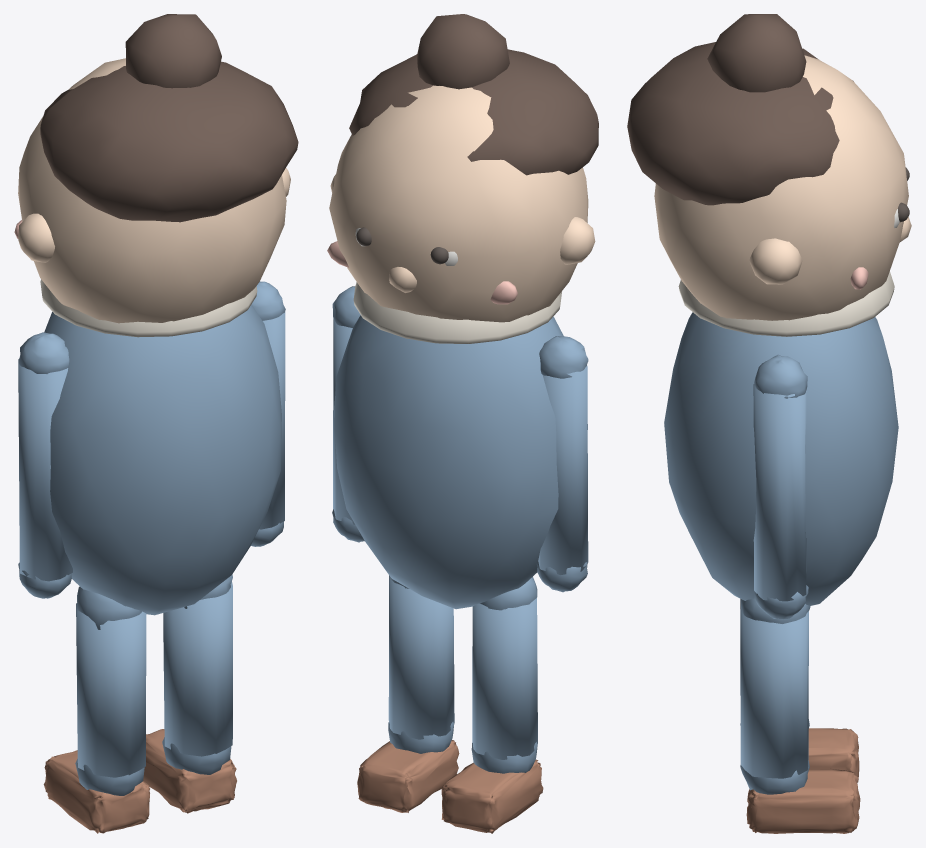
The model's file is walker.glb.
3 renders of one model, left to right at view 1: azimuth 30°, elevation 25°; view 2: azimuth 150°, elevation 25°; view 3: azimuth 270°, elevation 25°, orthographic. The views are drawn at different scales.
Visible parts, largest first — view 1: body, hair, head, legL, legR, armL, tuft, bootL, bootR, armR, collar, earL; view 2: body, head, hair, legL, legR, armL, tuft, bootL, bootR, collar, armR, earL (+1 smaller); view 3: body, head, hair, armR, legR, tuft, bootR, collar, bootL, earR.
Boxes of the visible parts, x1=… form: body: x1=44, y1=304, x2=281, y2=615; hair: x1=40, y1=61, x2=298, y2=222; head: x1=18, y1=58, x2=286, y2=323; legL: x1=75, y1=586, x2=146, y2=795; legR: x1=162, y1=574, x2=232, y2=774; armL: x1=18, y1=332, x2=72, y2=598; tuft: x1=125, y1=14, x2=221, y2=88; bootL: x1=43, y1=750, x2=149, y2=833; bootR: x1=143, y1=729, x2=236, y2=813; armR: x1=251, y1=281, x2=285, y2=546; collar: x1=40, y1=279, x2=257, y2=337; earL: x1=18, y1=213, x2=54, y2=262; body: x1=334, y1=315, x2=587, y2=609; head: x1=329, y1=85, x2=588, y2=322; hair: x1=349, y1=49, x2=598, y2=175; legL: x1=471, y1=577, x2=537, y2=773; legR: x1=388, y1=575, x2=454, y2=753; armL: x1=536, y1=336, x2=588, y2=592; tuft: x1=417, y1=14, x2=509, y2=89; bootL: x1=441, y1=759, x2=543, y2=833; bootR: x1=357, y1=740, x2=459, y2=812; collar: x1=353, y1=282, x2=561, y2=343; armR: x1=332, y1=286, x2=364, y2=542; earL: x1=560, y1=217, x2=595, y2=264; body: x1=664, y1=312, x2=898, y2=605; head: x1=654, y1=55, x2=908, y2=320; hair: x1=627, y1=42, x2=853, y2=205; armR: x1=753, y1=354, x2=808, y2=618; legR: x1=740, y1=598, x2=810, y2=794; tuft: x1=707, y1=14, x2=806, y2=92; bootR: x1=746, y1=768, x2=860, y2=833; collar: x1=678, y1=271, x2=894, y2=336; bootL: x1=808, y1=728, x2=859, y2=782; earR: x1=749, y1=238, x2=802, y2=284.
Bounding box in the file's own units: 0.5525 × 1.59 × 0.5159.
